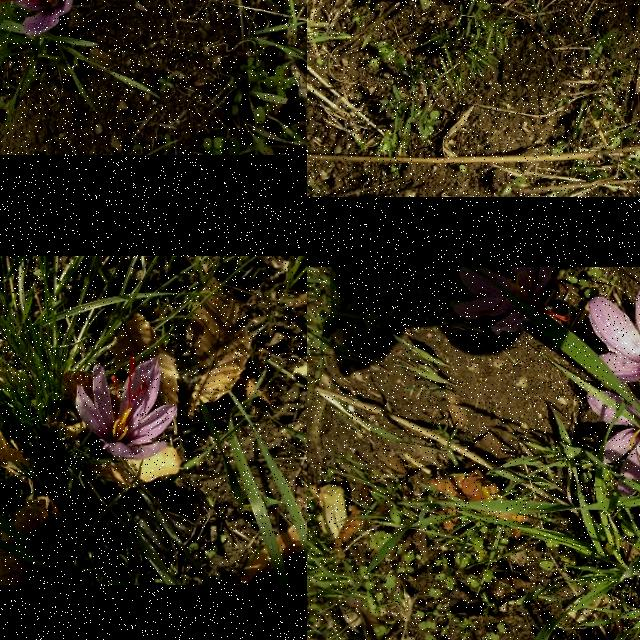flower: (76, 359, 178, 461), (453, 268, 569, 332), (588, 280, 640, 413), (587, 391, 640, 497), (0, 0, 86, 36)
